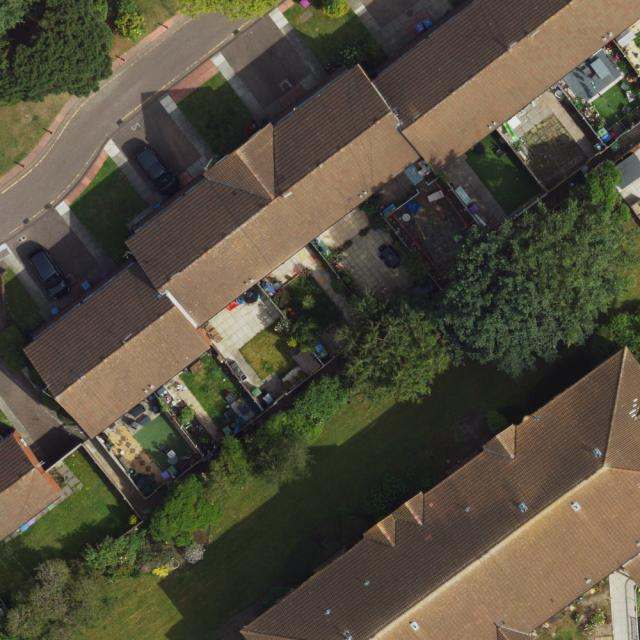roof: (28, 0, 640, 440), (239, 346, 639, 640), (0, 434, 60, 540)
